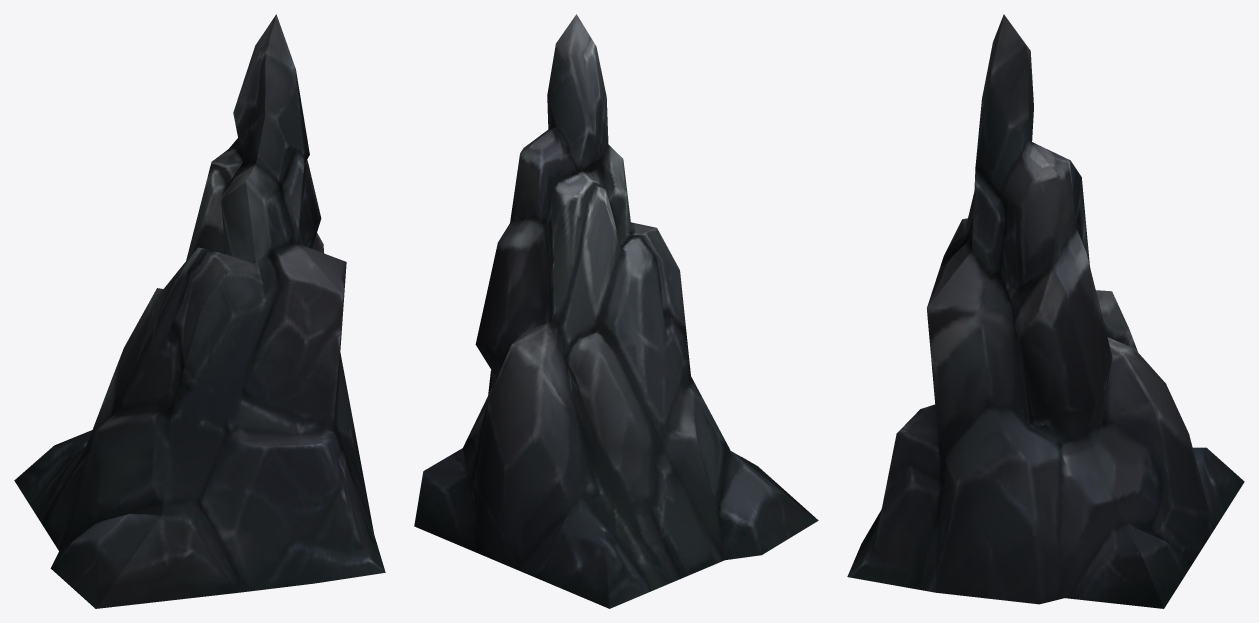
Rendered from Mine_shitou09.FBX.
3 renders of one model, left to right at view 1: azimuth 30°, elevation 25°; view 2: azimuth 150°, elevation 25°; view 3: azimuth 270°, elevation 25°, orthographic. The views are drawn at different scales.
Visible parts, largest first — view 1: shitou09; view 2: shitou09; view 3: shitou09.
Part boxes in pixels (x1,y1,x2,y2): shitou09: [14, 14, 385, 608]; shitou09: [414, 14, 818, 608]; shitou09: [847, 14, 1244, 608].
Size of the model in its own units: 198 by 306 by 202.
